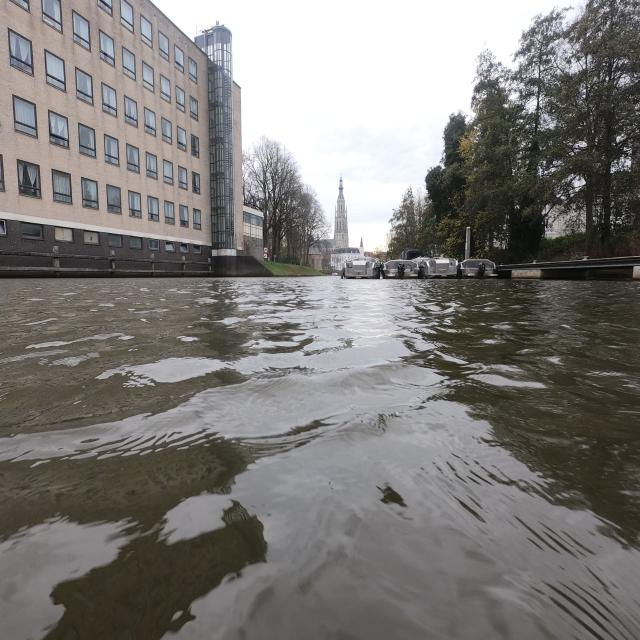boat: (498, 256, 640, 282)
dock: (497, 256, 640, 282)
sky: (151, 0, 590, 247)
tree: (386, 0, 640, 268)
wall: (0, 221, 268, 281)
water: (0, 273, 640, 640)
